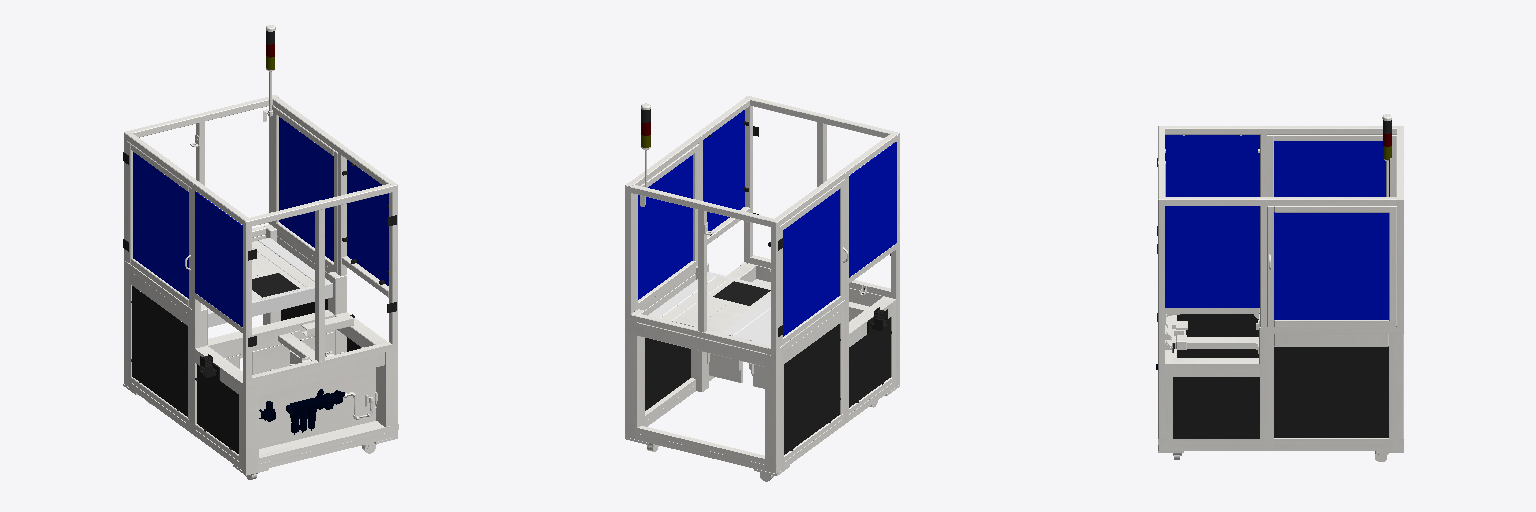
3 views of the same model, side by side, from view 1: azimuth 30°, elevation 25°; view 2: azimuth 150°, elevation 25°; view 3: azimuth 270°, elevation 25° (orthographic).
Visible parts, largest first — view 1: Object211, sdasa, Object215, asdasdw, asdsdsww, Object212, Box575, Object209; view 2: Object211, sdasa, Object215, asdasdw, asdsdsww, Box575; view 3: Object211, sdasa, Object215, asdasdw.
Part boxes in pixels (bbox=[...]): Object211: bbox=[123, 25, 398, 479]; sdasa: bbox=[133, 117, 388, 326]; Object215: bbox=[123, 56, 396, 453]; asdasdw: bbox=[133, 152, 242, 326]; asdsdsww: bbox=[201, 238, 332, 327]; Object212: bbox=[259, 389, 344, 434]; Box575: bbox=[252, 273, 299, 297]; Object209: bbox=[301, 314, 353, 336]; Object211: bbox=[625, 96, 899, 481]; sdasa: bbox=[638, 110, 895, 336]; Object215: bbox=[645, 121, 891, 454]; asdasdw: bbox=[783, 142, 896, 295]; asdsdsww: bbox=[648, 272, 770, 344]; Box575: bbox=[713, 281, 770, 305]; Object211: bbox=[1158, 114, 1403, 461]; sdasa: bbox=[1165, 135, 1389, 319]; Object215: bbox=[1157, 245, 1388, 438]; asdasdw: bbox=[1165, 206, 1387, 318].
Bounding box in the file's own units: 1133 × 2179 × 1409.
Materials: 8 (2 with a texture image).